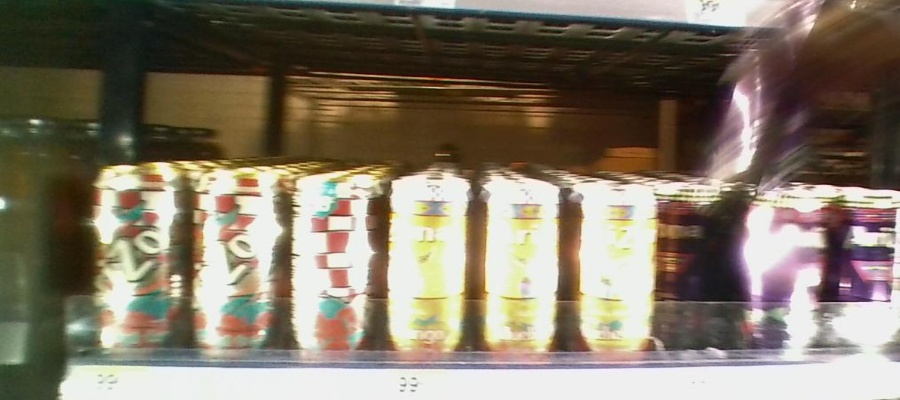bottle: (88, 157, 189, 352), (727, 179, 828, 365), (192, 163, 285, 355), (384, 162, 475, 355), (290, 162, 380, 355), (566, 173, 654, 358), (480, 166, 561, 352), (830, 183, 900, 352), (657, 178, 717, 349)
